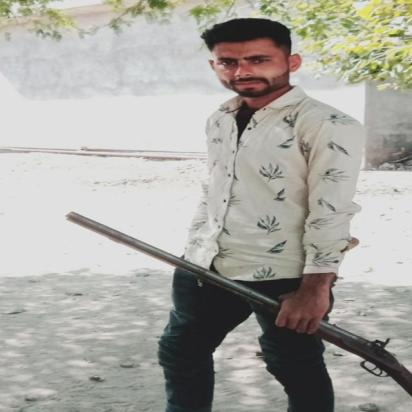Gun: (62, 209, 412, 397)
